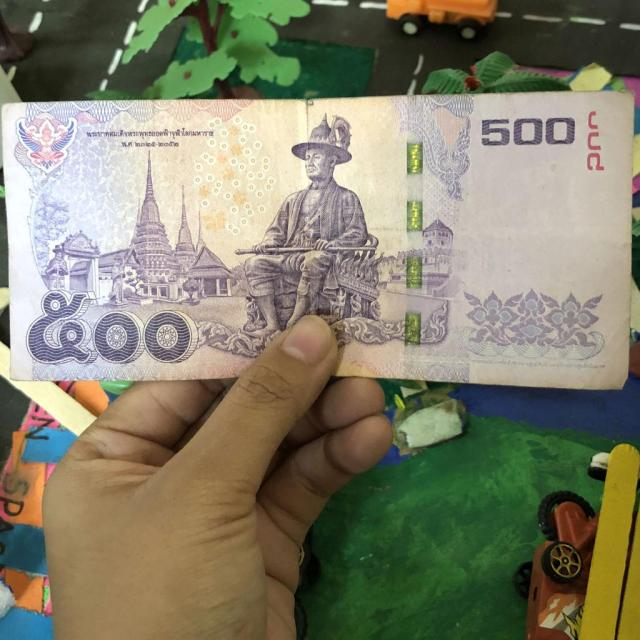THAI500: (2, 91, 633, 389)
